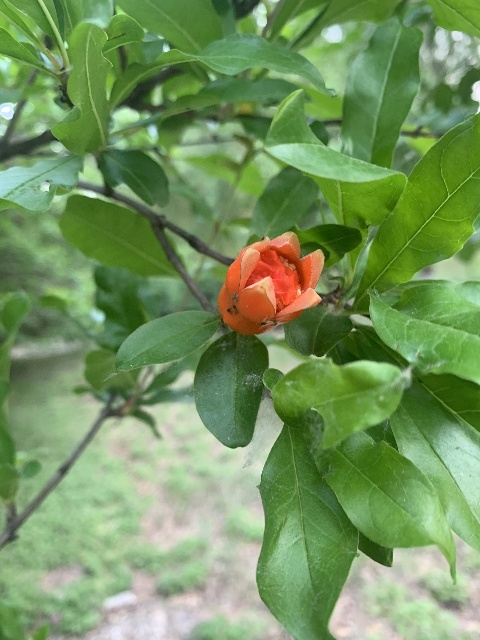flower: (217, 231, 324, 334)
